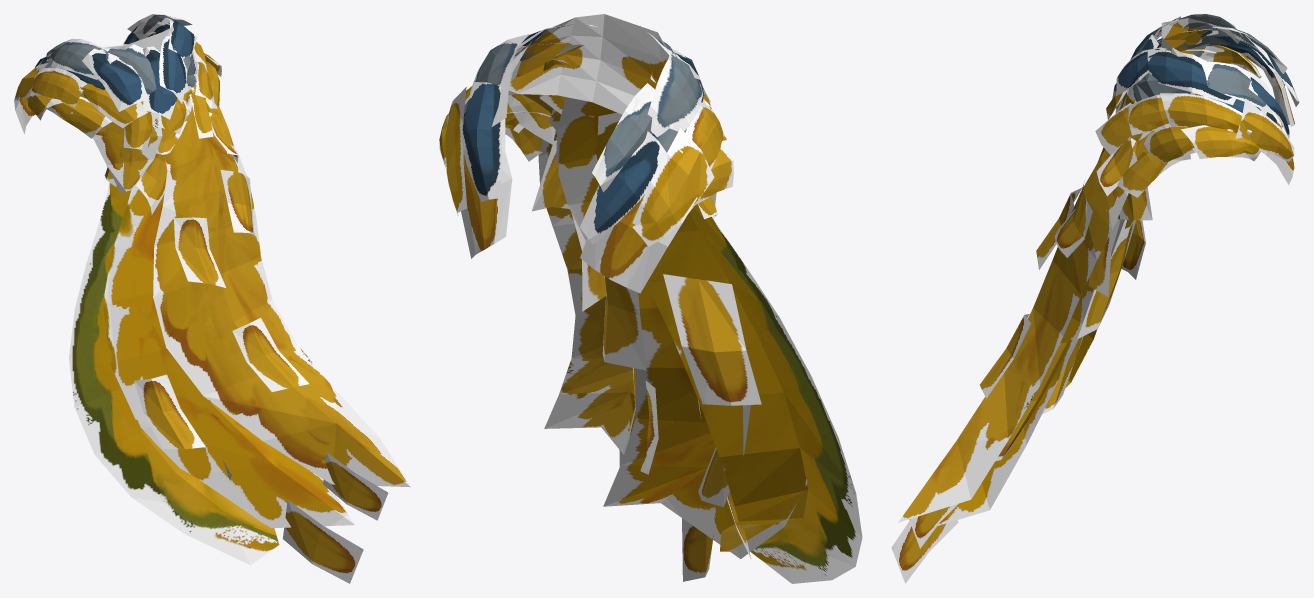
Rendered from CharSkyKid_Wing_AP31Wheat.glb.
3 renders of one model, left to right at view 1: azimuth 30°, elevation 25°; view 2: azimuth 150°, elevation 25°; view 3: azimuth 270°, elevation 25°, orthographic. The views are drawn at different scales.
Parts seen in each view (by area): view 1: CharSkyKid_Wing_AP31Wheat; view 2: CharSkyKid_Wing_AP31Wheat; view 3: CharSkyKid_Wing_AP31Wheat.
Part boxes in pixels (<box>): CharSkyKid_Wing_AP31Wheat: <box>14,14,410,583</box>; CharSkyKid_Wing_AP31Wheat: <box>439,14,862,583</box>; CharSkyKid_Wing_AP31Wheat: <box>891,14,1299,583</box>.
Size of the model in its own units: 4.72 by 8.47 by 6.13.
Materials: 1 (1 with a texture image).
